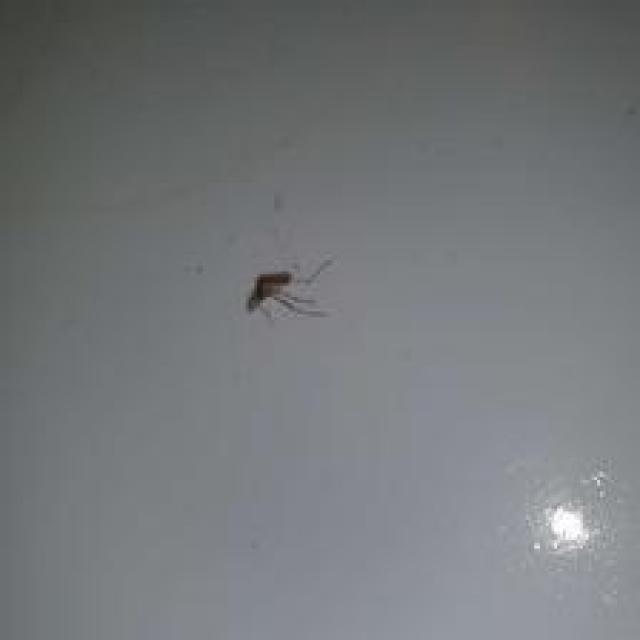Culex: (244, 256, 333, 321)
